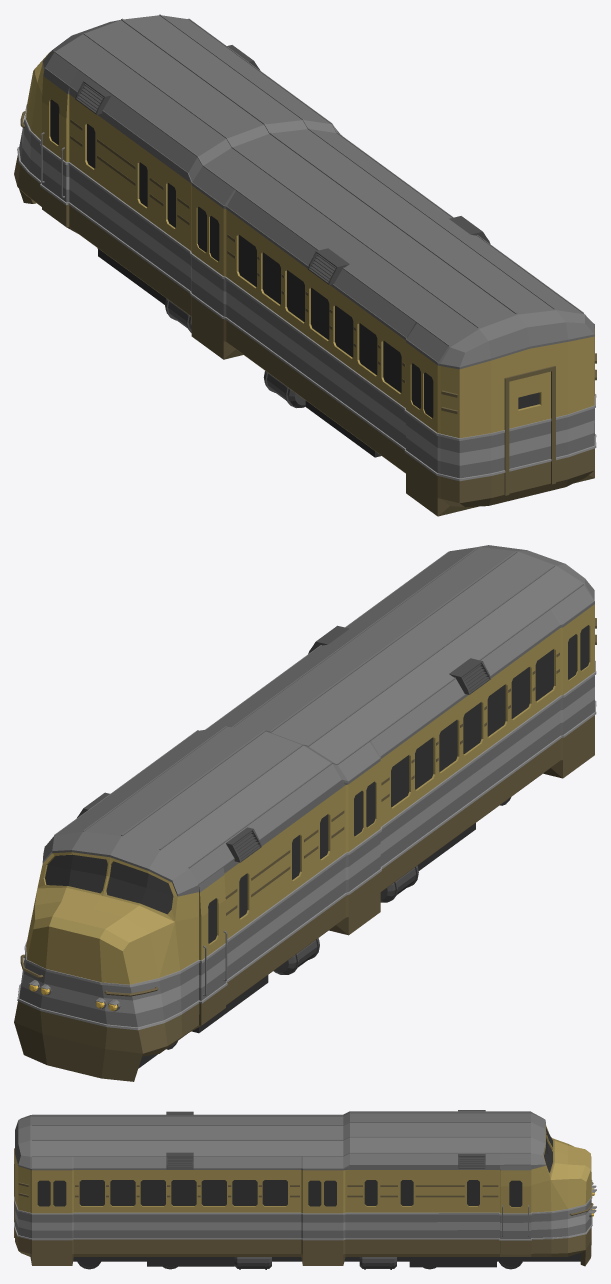
File: train_front.glb
The picture shows the model from 3 angles, top to bottom: view 1: azimuth 30°, elevation 25°; view 2: azimuth 150°, elevation 25°; view 3: azimuth 270°, elevation 25°; orthographic projection. The views are drawn at different scales.
Parts seen in each view (by area): view 1: Train; view 2: Train; view 3: Train.
Part boxes in pixels (left/top/right/bottom): Train: left=14, top=14, right=596, bottom=516; Train: left=14, top=545, right=596, bottom=1081; Train: left=14, top=1110, right=596, bottom=1269.
Bounding box in the file's own units: 3.01 × 3.76 × 14.5.
